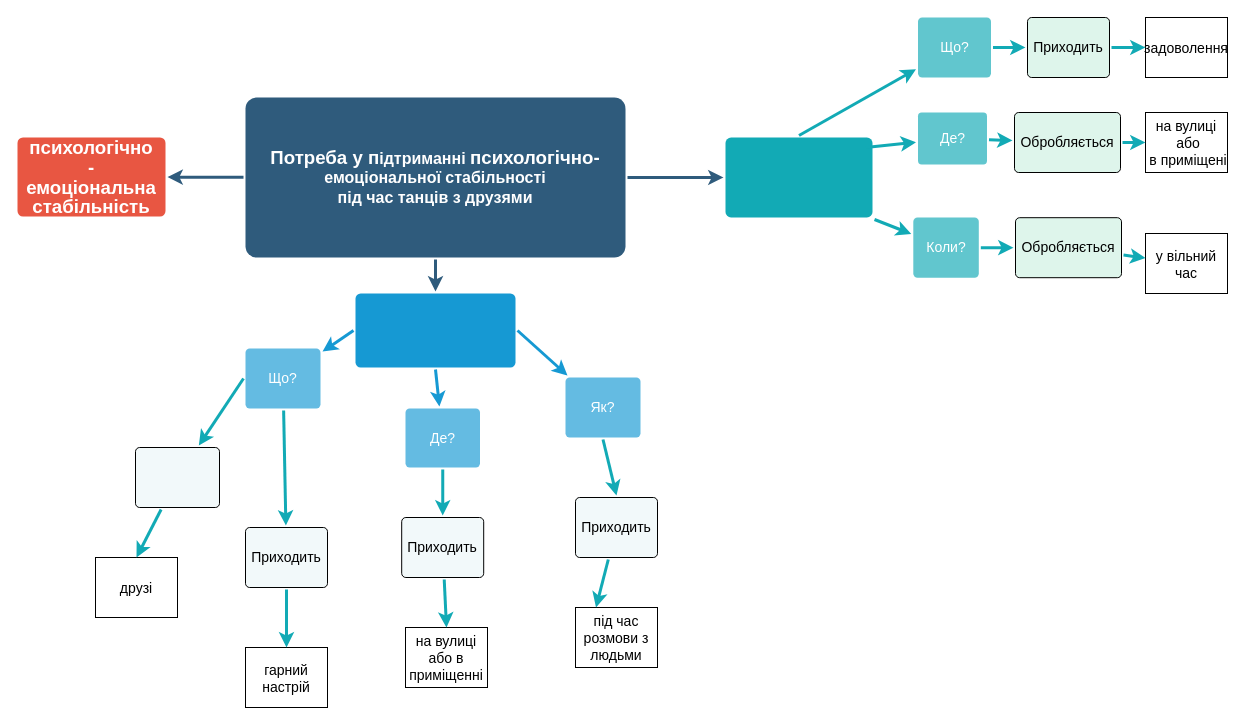
The diagram is 1245 pixels wide and 725 high, and some of its shapes have lost their labels. The box of each missing label's shape, as (x1, y1, x2, y2) in pixels:
Виходить: (134, 446, 220, 508)
Дружба: (355, 293, 515, 367)
Танці: (725, 137, 872, 217)
